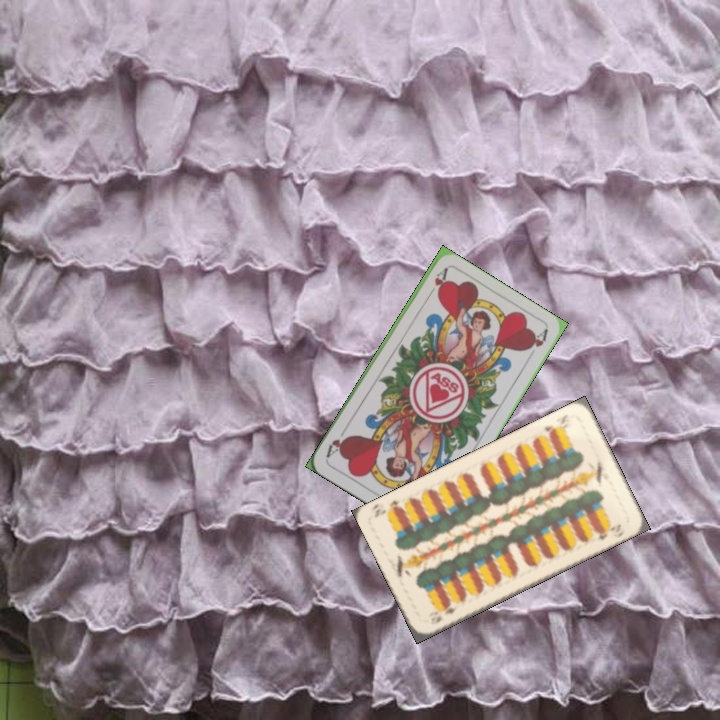E10: (540, 410, 570, 438), (432, 598, 460, 626)
HA: (423, 265, 450, 301)
